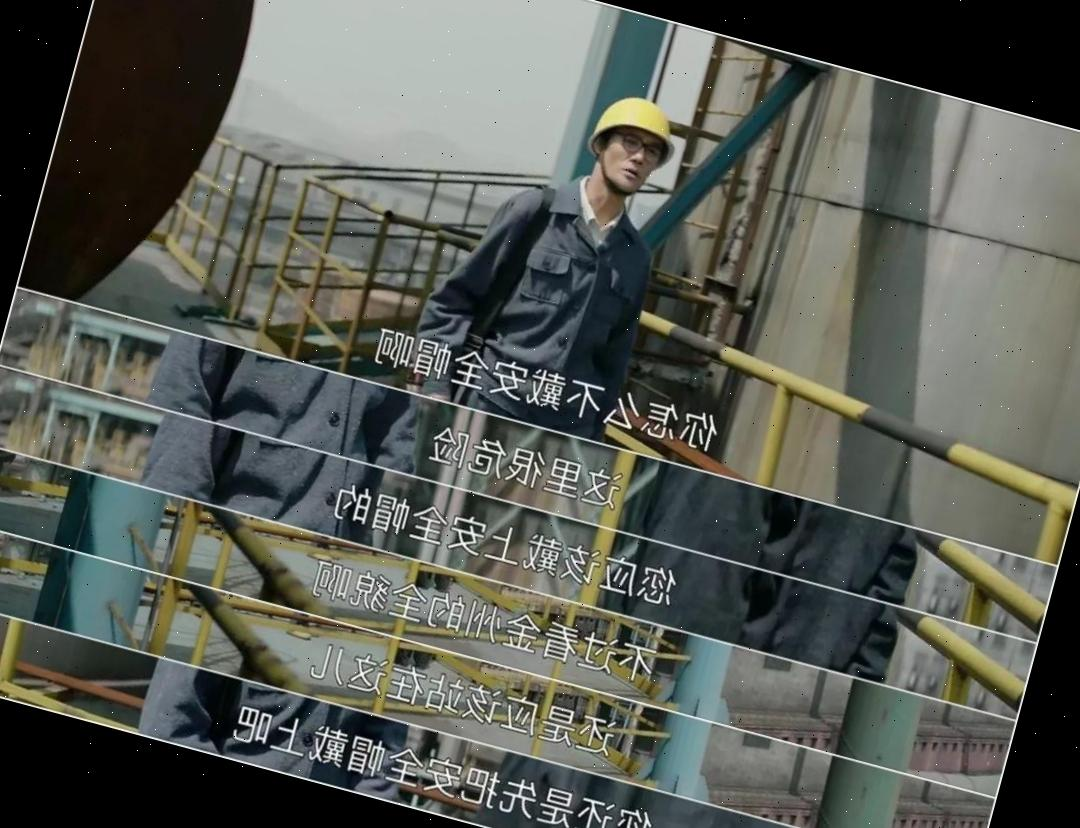helmet: (588, 84, 686, 165)
wear: (460, 174, 666, 390)
